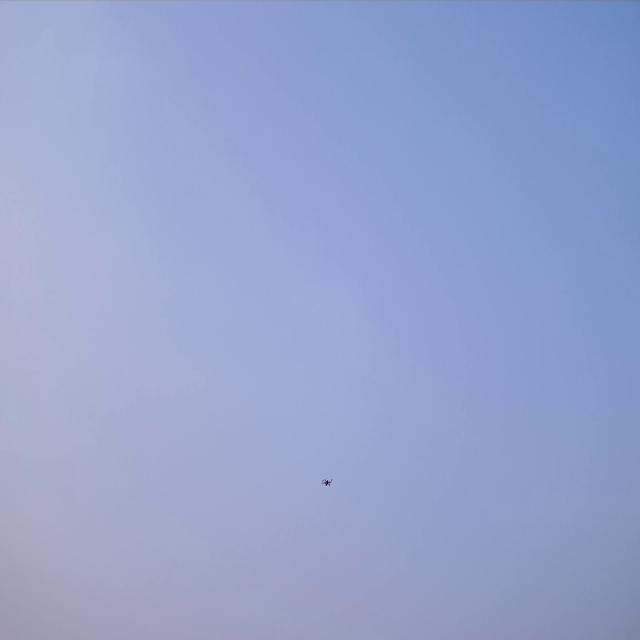UAV: (321, 476, 333, 487)
